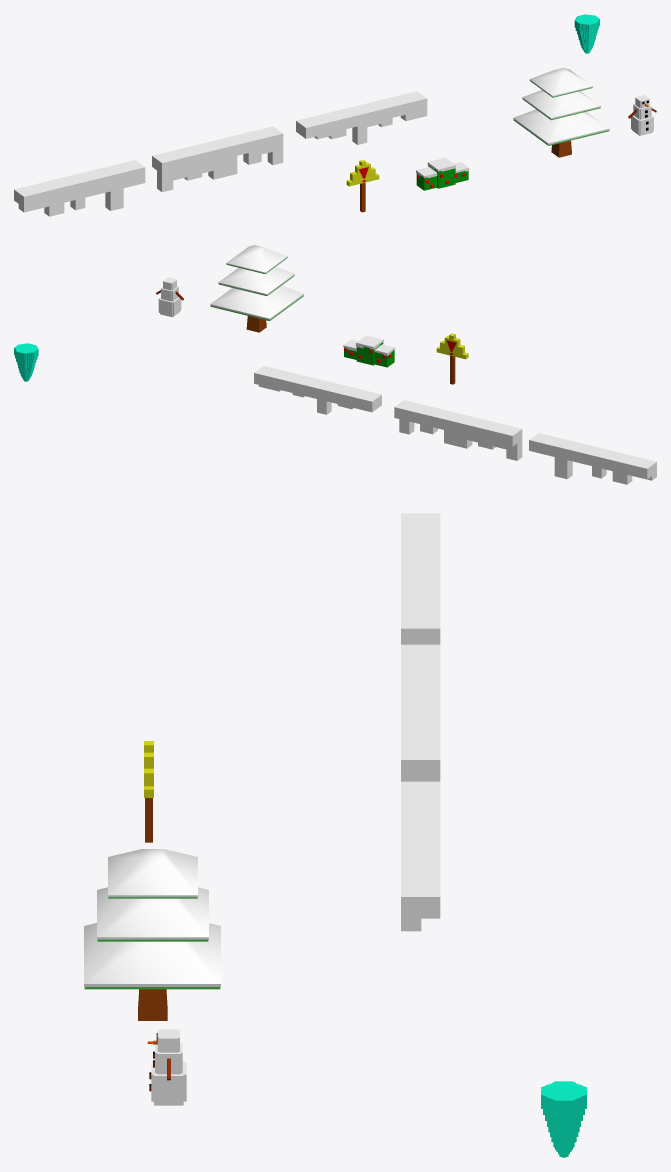
File: snow_Props.fbx
3 renders of one model, top to bottom at view 1: azimuth 30°, elevation 25°; view 2: azimuth 150°, elevation 25°; view 3: azimuth 270°, elevation 25°, orthographic. The views are drawn at different scales.
Parts seen in each view (by area): view 1: pCube625, pCube472, pCube627, pCube628, pCube623, pCube547, pCube626, pCube624; view 2: pCube625, pCube472, pCube627, pCube628, pCube623, pCube547, pCube626, pCube624; view 3: pCube625, pCube628, pCube472, pCube627, pCube626, pCube547, pCube624.
Part boxes in pixels (x1,y1,x2,y2): pCube625: (513, 68, 609, 157); pCube472: (152, 126, 283, 192); pCube627: (14, 160, 145, 216); pCube628: (296, 91, 427, 144); pCube623: (416, 157, 469, 190); pCube547: (628, 95, 656, 135); pCube626: (574, 14, 599, 53); pCube624: (346, 159, 379, 212); pCube625: (210, 245, 303, 332); pCube472: (394, 400, 522, 460); pCube627: (529, 433, 656, 484); pCube628: (254, 366, 381, 414); pCube623: (343, 335, 395, 367); pCube547: (156, 277, 183, 317); pCube626: (14, 343, 38, 381); pCube624: (436, 333, 468, 384); pCube625: (84, 849, 220, 1020); pCube628: (401, 781, 440, 931); pCube472: (401, 644, 440, 781); pCube627: (401, 513, 440, 644); pCube626: (541, 1081, 586, 1157); pCube547: (147, 1029, 186, 1105); pCube624: (144, 741, 153, 842).
Bounding box in the file's own units: 46.76 × 6.7 × 16.98.
